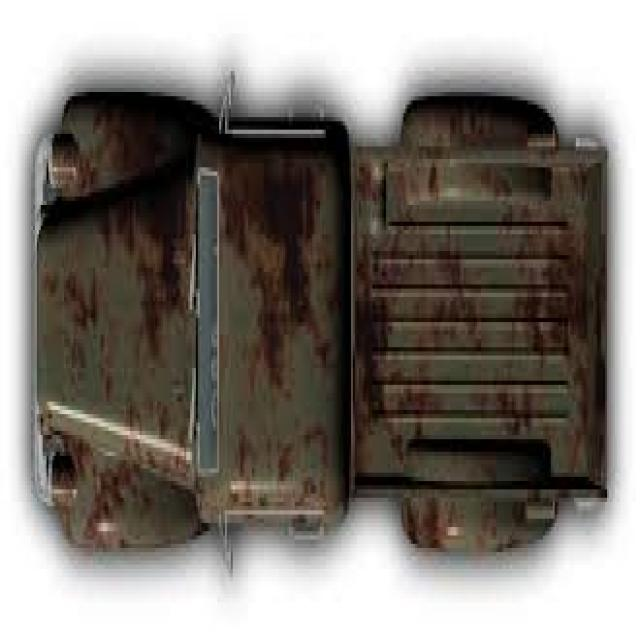truck: (28, 79, 608, 570)
